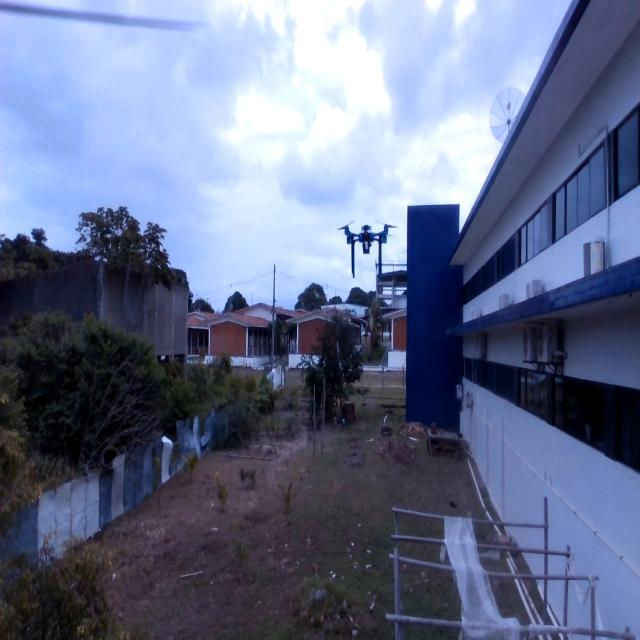-uav-: (332, 216, 402, 288)
